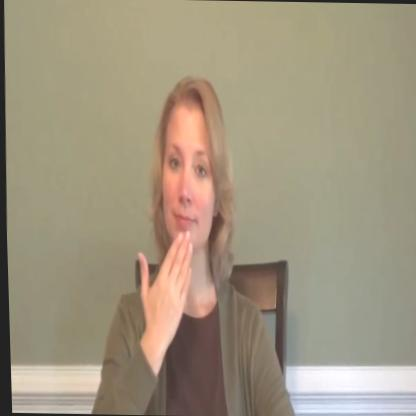ThankYou: (71, 76, 293, 416)
